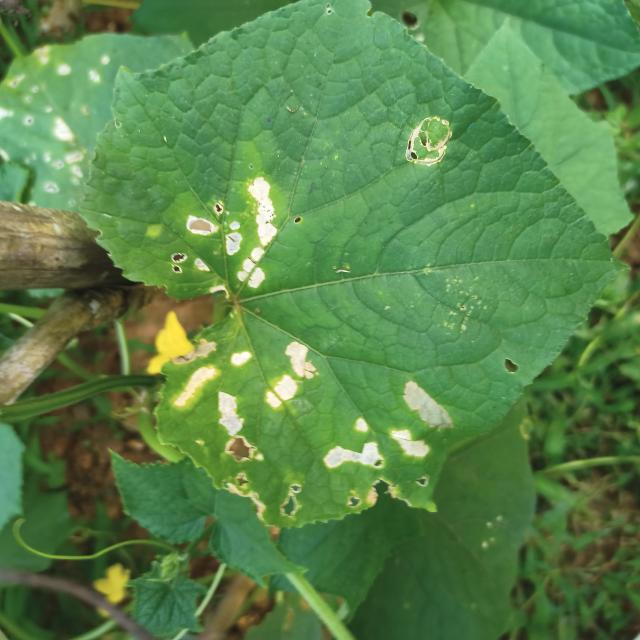disease_cucumber: (166, 172, 292, 308), (168, 330, 258, 479), (387, 378, 457, 478), (260, 336, 319, 414), (317, 413, 383, 479)
